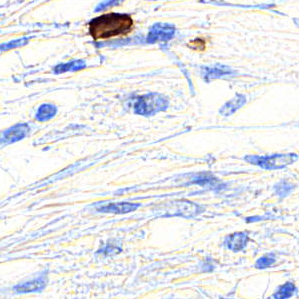Lymphocyte: (87, 12, 136, 39)
